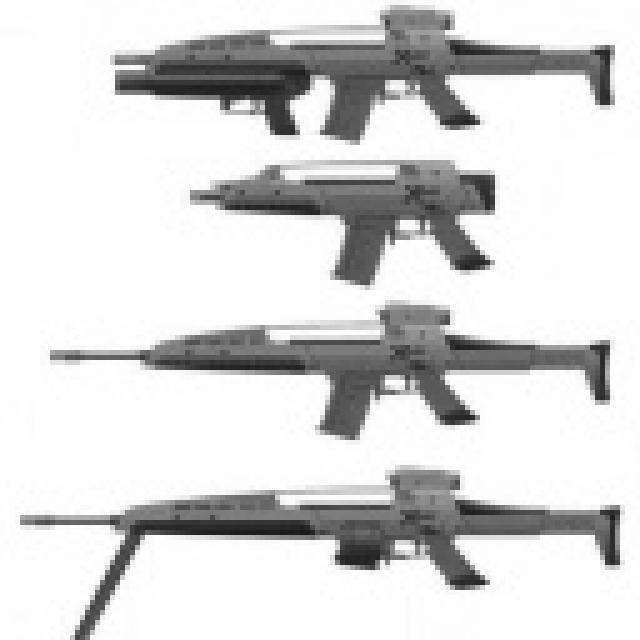Rifle: (0, 447, 640, 640), (12, 299, 639, 461), (95, 0, 640, 145), (184, 155, 524, 298)
